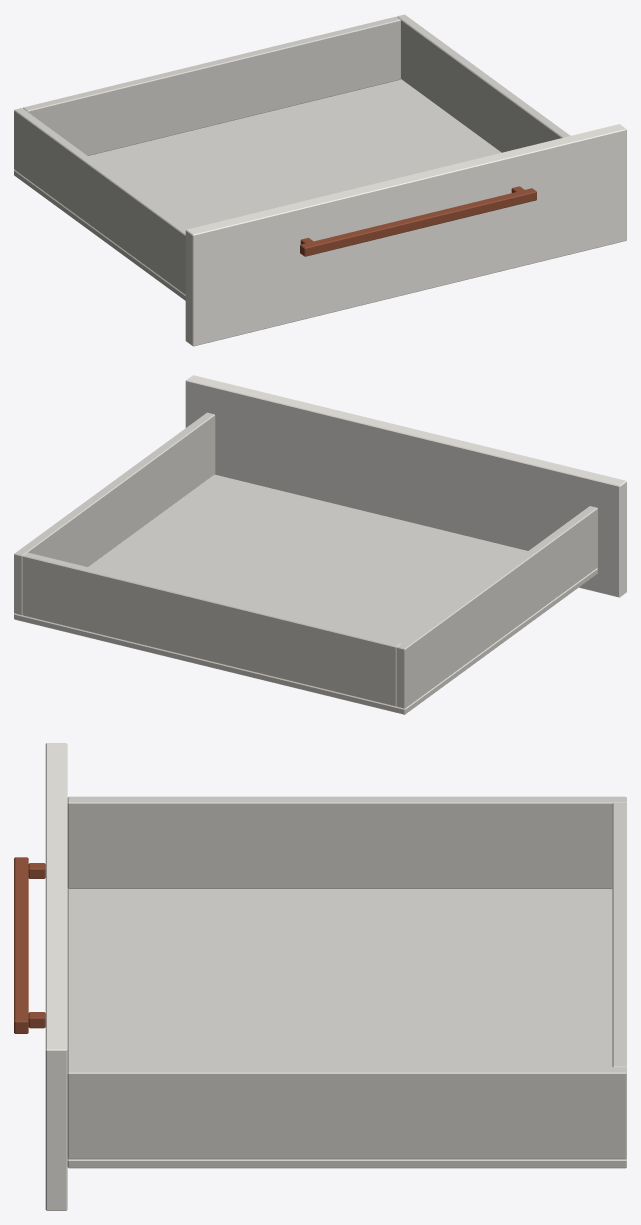
The model's file is kitchen_dresser_right_drawer.glb.
3 renders of one model, top to bottom at view 1: azimuth 30°, elevation 25°; view 2: azimuth 150°, elevation 25°; view 3: azimuth 270°, elevation 25°, orthographic. The views are drawn at different scales.
Parts seen in each view (by area): view 1: kitchen_dresser_right_drawer; view 2: kitchen_dresser_right_drawer; view 3: kitchen_dresser_right_drawer.
Part boxes in pixels (x1,y1,x2,y2): kitchen_dresser_right_drawer: [14, 14, 626, 346]; kitchen_dresser_right_drawer: [14, 375, 626, 714]; kitchen_dresser_right_drawer: [14, 743, 626, 1210].
Size of the model in its own units: 0.597 by 0.147 by 0.504.
